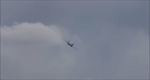maybay_muctieu: (63, 37, 77, 50)
